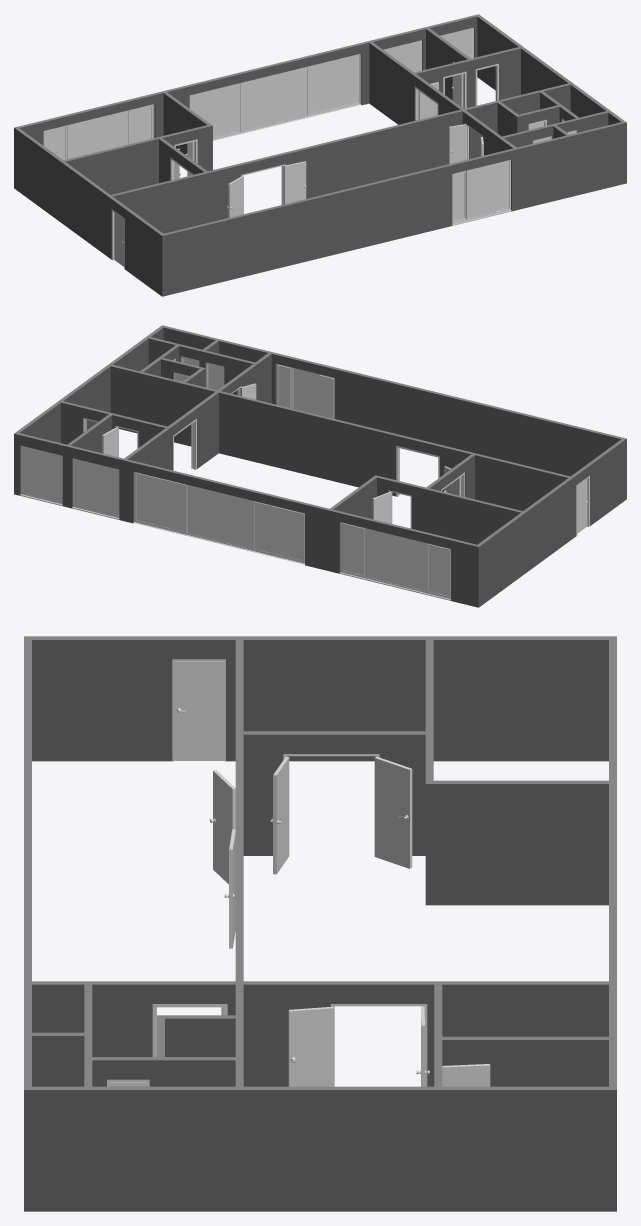
File: office_building.dae
The picture shows the model from 3 angles, top to bottom: view 1: azimuth 30°, elevation 25°; view 2: azimuth 150°, elevation 25°; view 3: azimuth 270°, elevation 25°; orthographic projection. The views are drawn at different scales.
Parts seen in each view (by area): view 1: Cube, Window.001, Window.002, Window, Door.001, Window.003, Door.006, Door, Window.004, Door.015, Door.005; view 2: Cube, Window.001, Window.002, Window, Window.003, Window.004, Door.008, Door.015; view 3: Cube, Door.015, Door.003, Door.004, Door, Door.002, Door.010, DoorFrame.011, Door.001.
Part boxes in pixels (x1,y1,x2,y2): Cube: (14, 14, 626, 296); Window.001: (189, 54, 360, 140); Window.002: (43, 104, 154, 160); Window: (452, 160, 511, 225); Door.001: (284, 161, 306, 204); Window.003: (383, 40, 421, 72); Door.006: (449, 124, 465, 163); Door: (228, 176, 243, 217); Window.004: (440, 27, 473, 58); Door.015: (114, 212, 124, 266); Door.005: (418, 82, 438, 119); Cube: (14, 325, 626, 607); Window.001: (133, 472, 304, 564); Window.002: (339, 522, 450, 600); Window: (276, 364, 334, 418); Window.003: (72, 458, 119, 519); Window.004: (20, 445, 62, 505); Door.008: (372, 492, 391, 523); Door.015: (577, 479, 587, 533); Cube: (24, 636, 616, 1211); Door.015: (175, 661, 223, 760); Door.003: (374, 756, 412, 868); Door.004: (288, 1006, 333, 1086); Door: (213, 770, 235, 884); Door.002: (273, 756, 289, 874); Door.010: (442, 1064, 490, 1086); DoorFrame.011: (172, 659, 225, 761); Door.001: (229, 829, 235, 948).
Size of the model in its own units: 20.03 by 11.06 by 2.5.
Materials: 7 (1 with a texture image).
